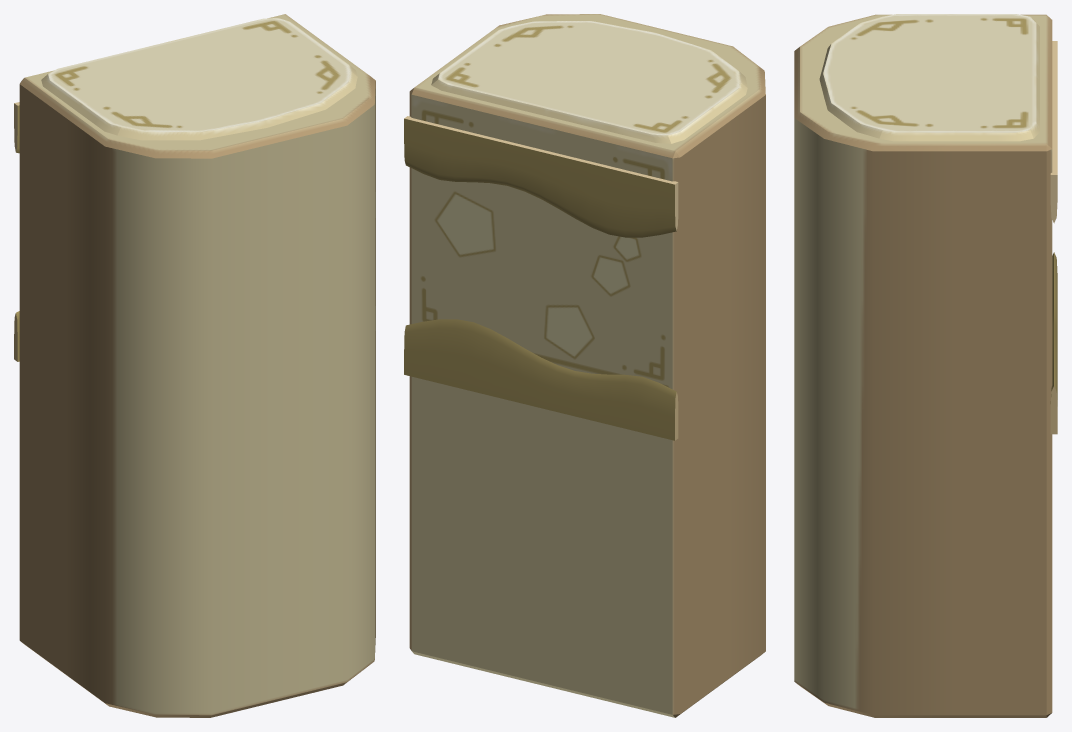
The model's file is S4_InF_Wall_006.fbx.
The picture shows the model from 3 angles, left to right: view 1: azimuth 30°, elevation 25°; view 2: azimuth 150°, elevation 25°; view 3: azimuth 270°, elevation 25°; orthographic projection.
Parts seen in each view (by area): view 1: wall16_pCube2; view 2: wall16_pCube2; view 3: wall16_pCube2.
Part boxes in pixels (bbox=[...]): wall16_pCube2: bbox=[14, 14, 375, 717]; wall16_pCube2: bbox=[404, 14, 765, 717]; wall16_pCube2: bbox=[794, 14, 1057, 717].
Bounding box in the file's own units: 1 × 2.02 × 0.8313.
